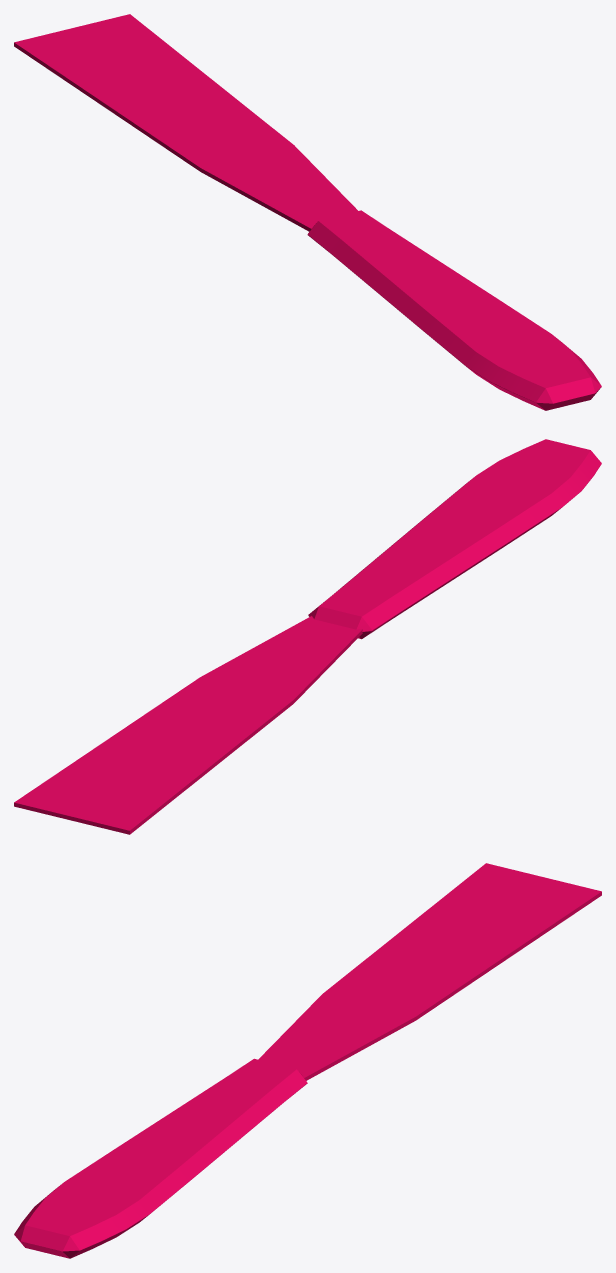
File: Tool_01_Lod0.fbx
3 views of the same model, one above another, from view 1: azimuth 30°, elevation 25°; view 2: azimuth 150°, elevation 25°; view 3: azimuth 330°, elevation 25° (orthographic).
Parts seen in each view (by area): view 1: Tool_01_Lod0; view 2: Tool_01_Lod0; view 3: Tool_01_Lod0.
Part boxes in pixels (x1,y1,x2,y2): Tool_01_Lod0: (14,14,601,410); Tool_01_Lod0: (14,439,601,834); Tool_01_Lod0: (14,863,601,1258).
Size of the model in its own units: 6.8 by 1.27 by 51.
